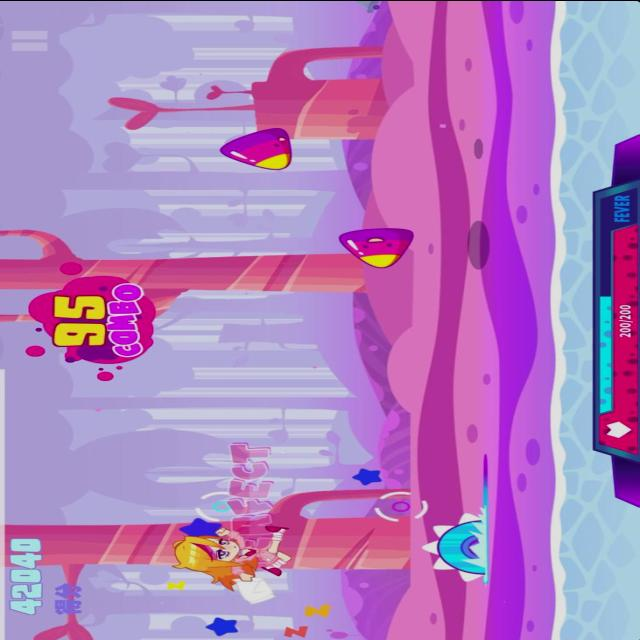ci: (414, 495, 492, 588)
jian: (213, 123, 296, 173), (334, 223, 418, 270)
